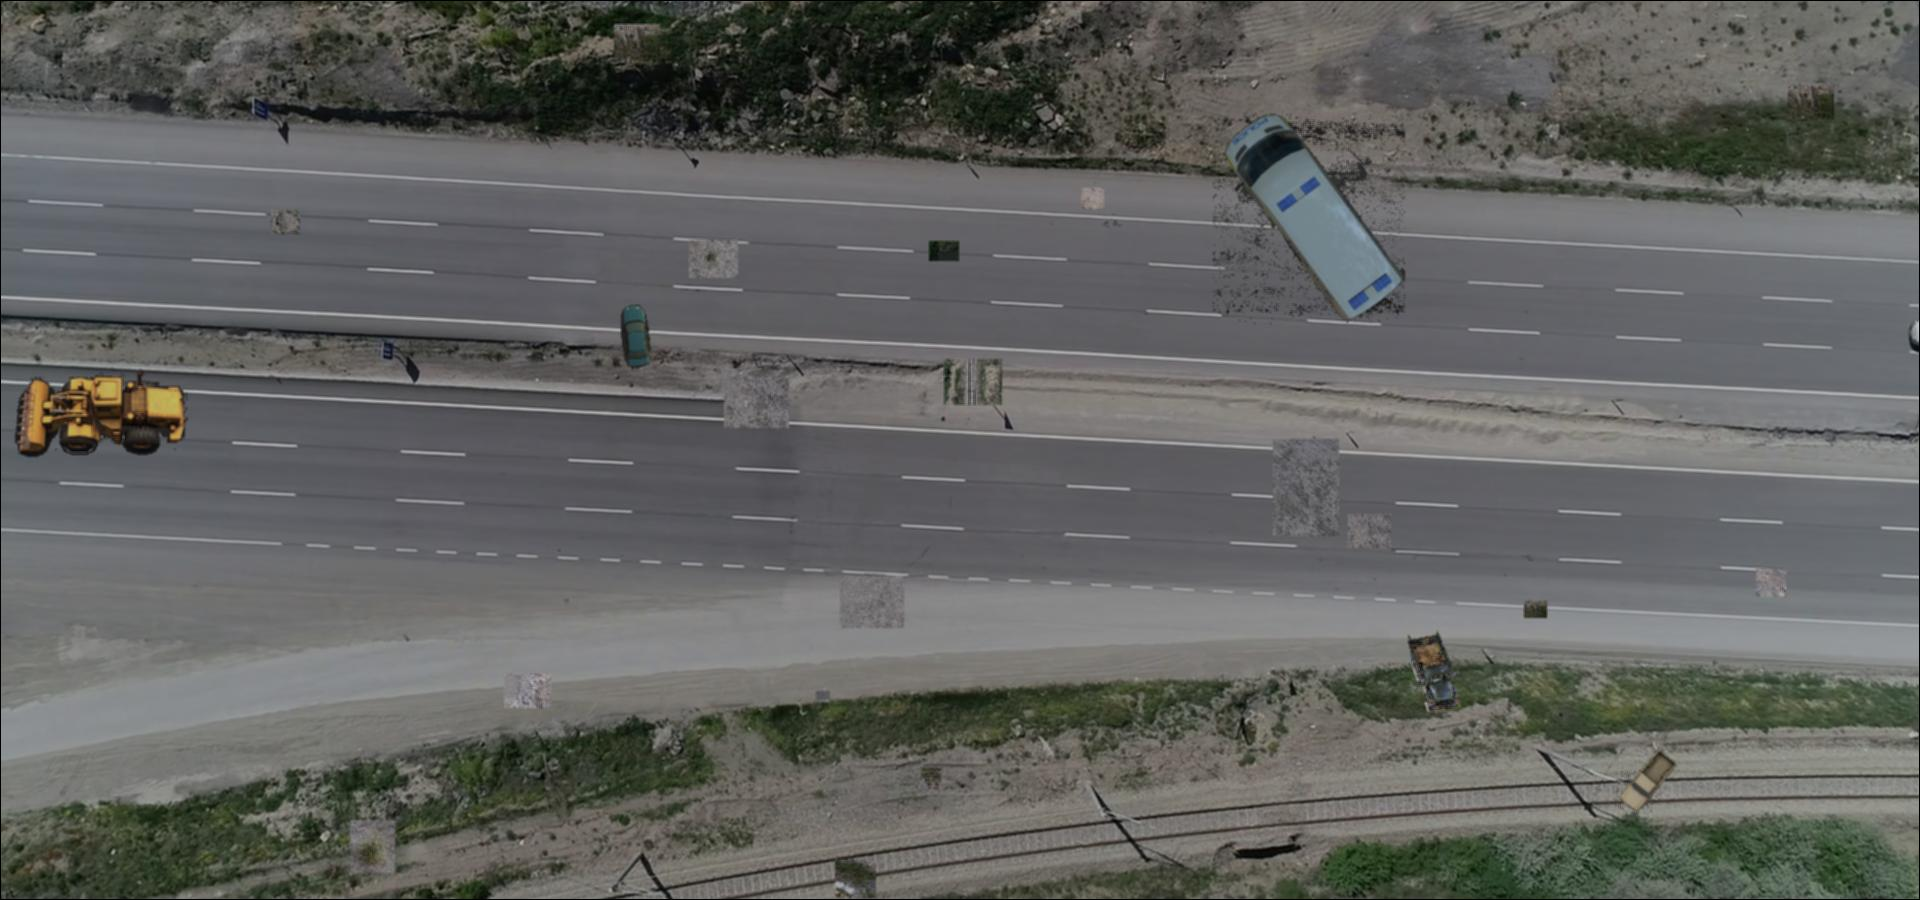arac: (1213, 111, 1404, 324), (10, 369, 193, 468), (1407, 629, 1462, 711), (1615, 749, 1680, 814), (620, 305, 653, 369)
